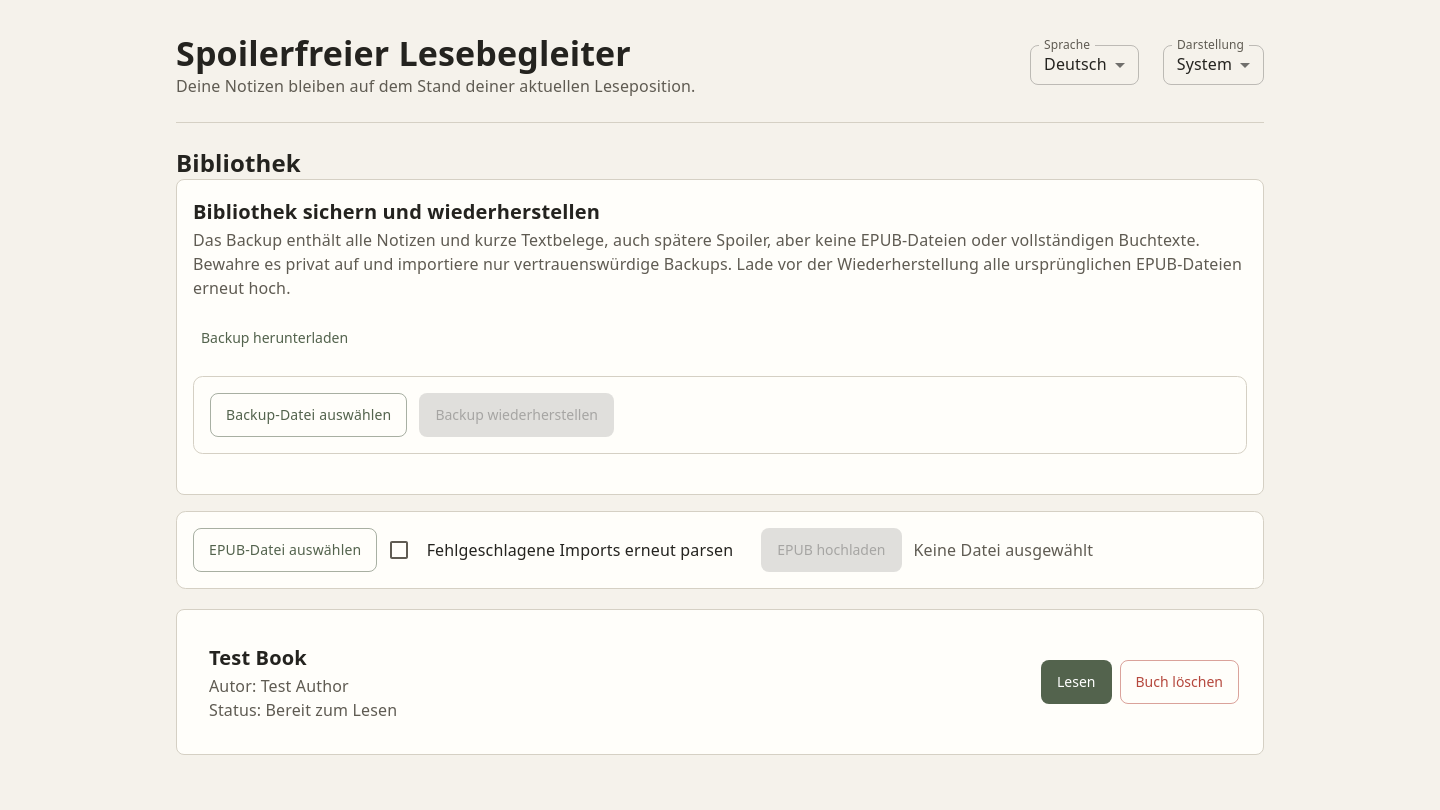
it: App › offers a retry when the reader cannot load chapters
Check: the heading "Test Book" is shown, box 209,644 -> 307,671
What coordinates should you click on to do the following:
click the button "Lesen"
I would click on:
 (1076, 682)
Its box is 1041,660 -> 1112,704.
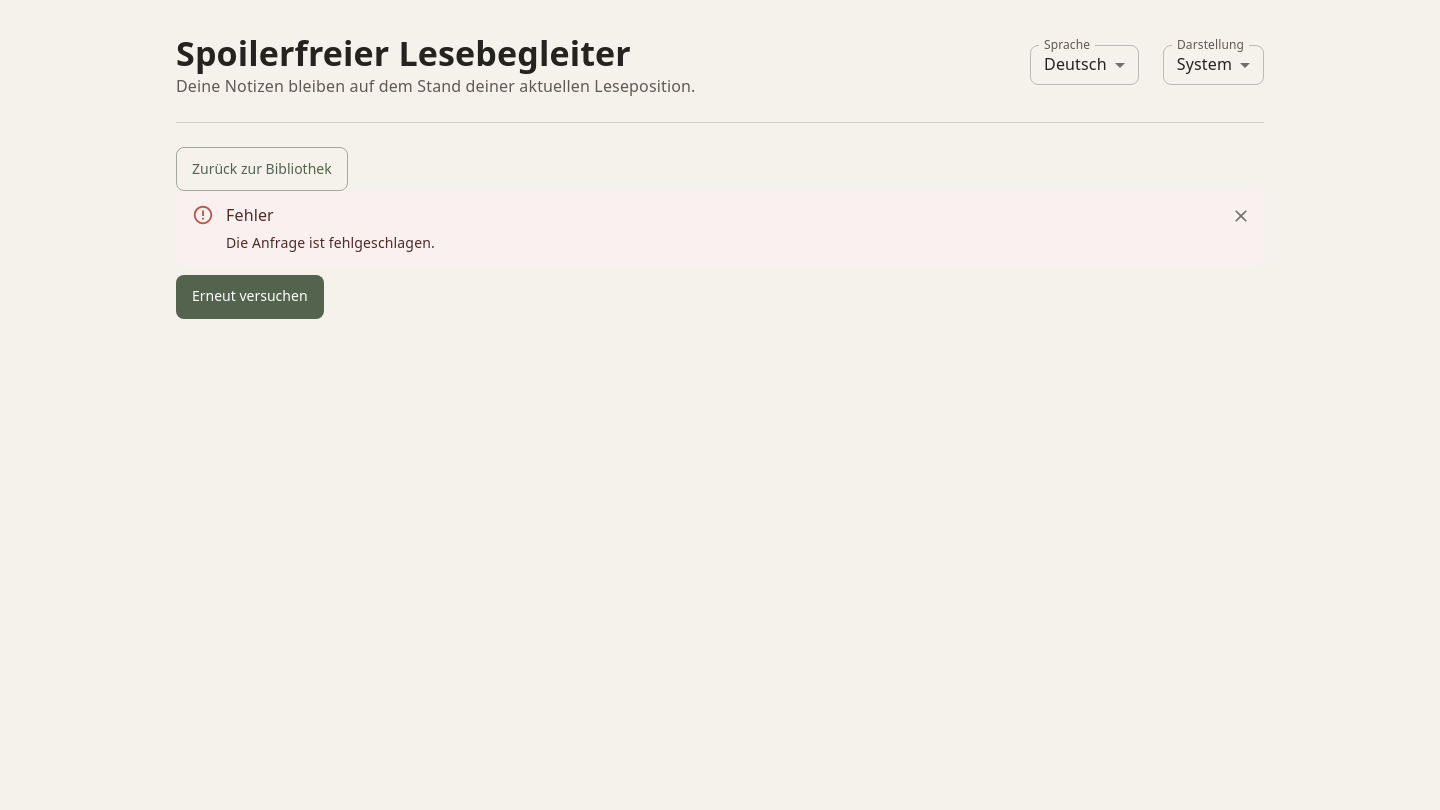
Check: the message shows "Die Anfrage ist fehlgeschlagen.", box 226,233 -> 435,252
What coordinates should you click on to do the following:
click the button "Erneut versuchen"
I would click on:
 (250, 297)
Its box is 176,275 -> 324,319.
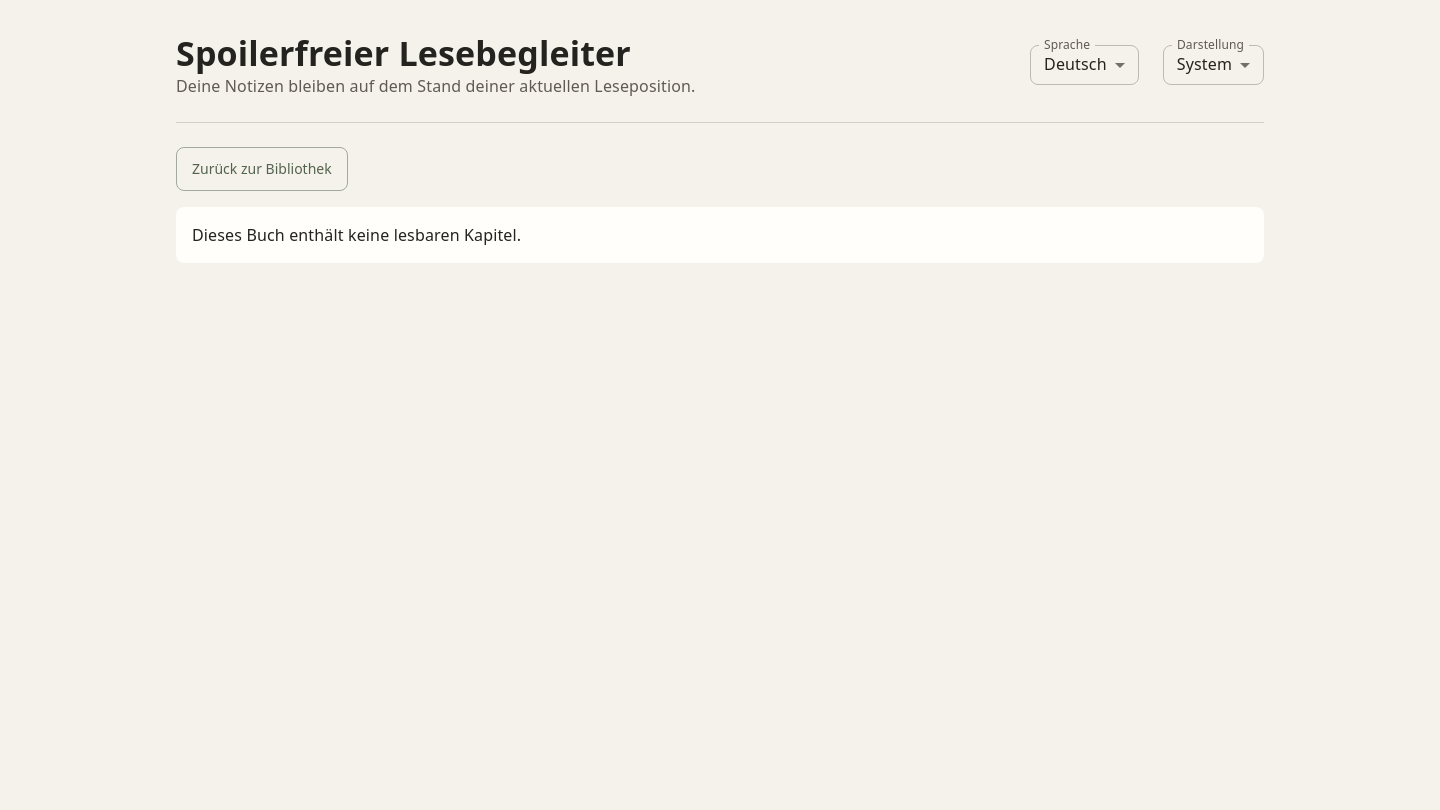
Check: the text "Dieses Buch enthält keine lesbaren Kapitel." is shown, box 176,207 -> 1264,263
Check: the message "Fehler Die Anfrage ist fehlgeschlagen." is gone
